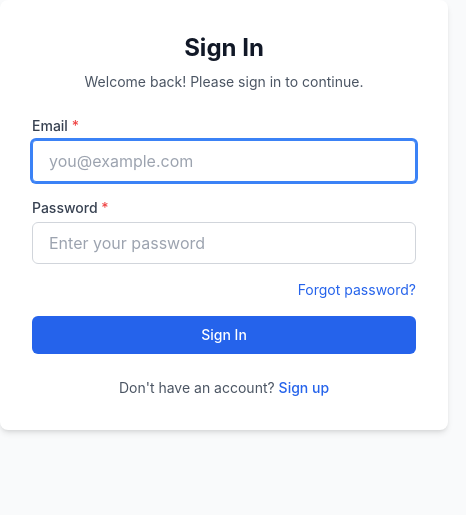
Test: SignInForm Component › Sign In Functionality › should handle user not confirmed error
Note: Fill in form
Type "test@example.com" into the field labelled "Email *".
click(224, 161); type("test@example.com")  # box x1=32 y1=140 x2=416 y2=182
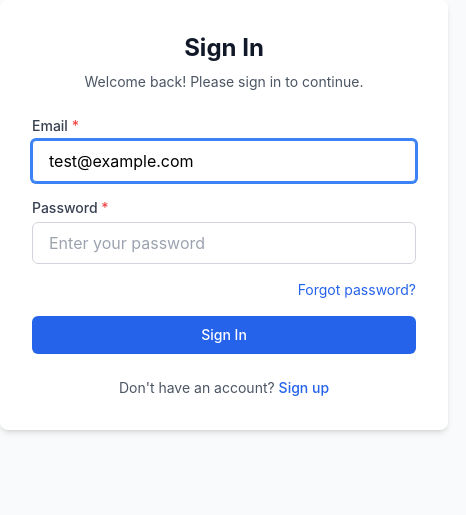
Type "Password123!" into the password field labelled "Password *".
click(224, 243); type("Password123!")  # box x1=32 y1=222 x2=416 y2=264
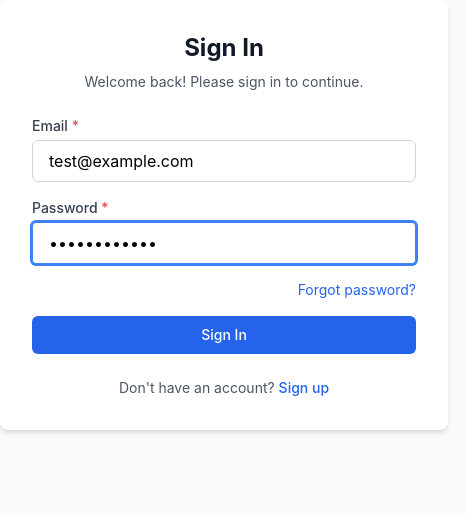
Note: Submit form
Click the button "Sign In".
click(224, 335)  # box x1=32 y1=316 x2=416 y2=354
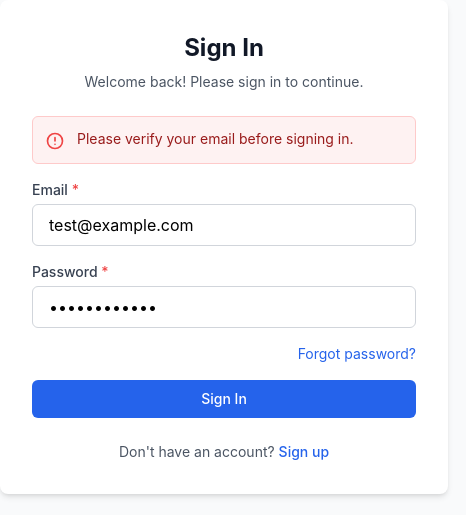
Expected: the text "Please verify your email before signing in." is shown, x1=77 y1=129 x2=354 y2=149
